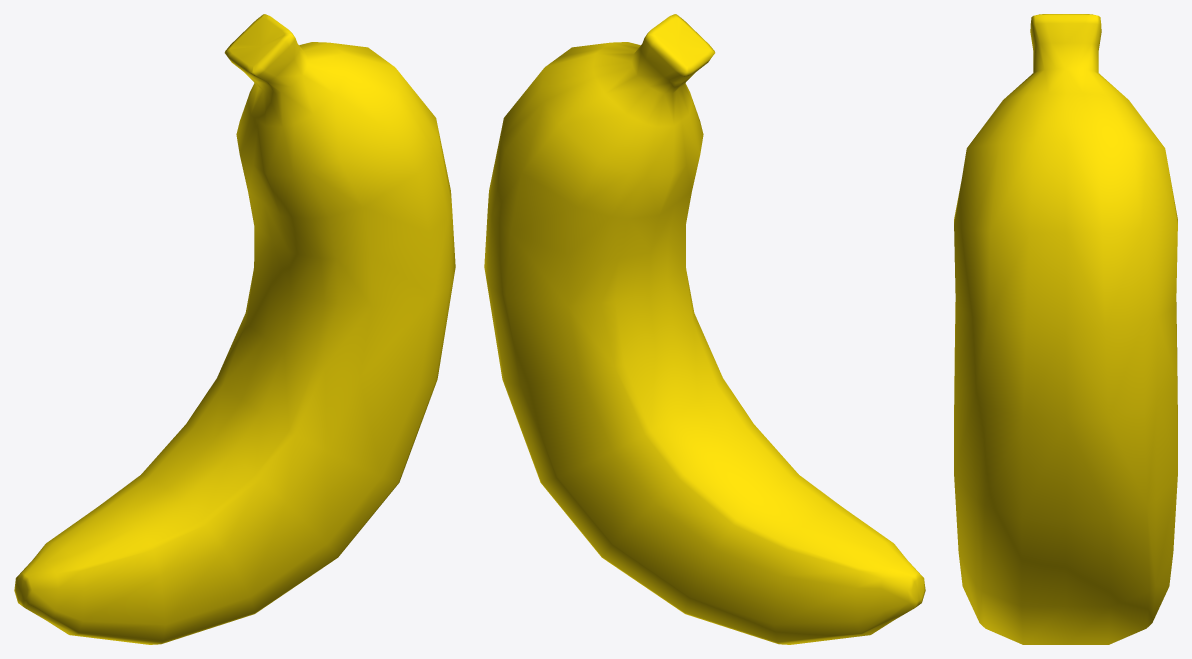
Rendered from Banana.fbx.
The picture shows the model from 3 angles, left to right: view 1: azimuth 30°, elevation 25°; view 2: azimuth 150°, elevation 25°; view 3: azimuth 270°, elevation 25°; orthographic projection. The views are drawn at different scales.
Visible parts, largest first — view 1: Banana; view 2: Banana; view 3: Banana.
Part boxes in pixels (box(x1,y1,x2,y2)): Banana: box(14, 14, 455, 644); Banana: box(484, 14, 925, 644); Banana: box(954, 14, 1177, 644).
Size of the model in its own units: 7.88 by 10.43 by 3.15.
